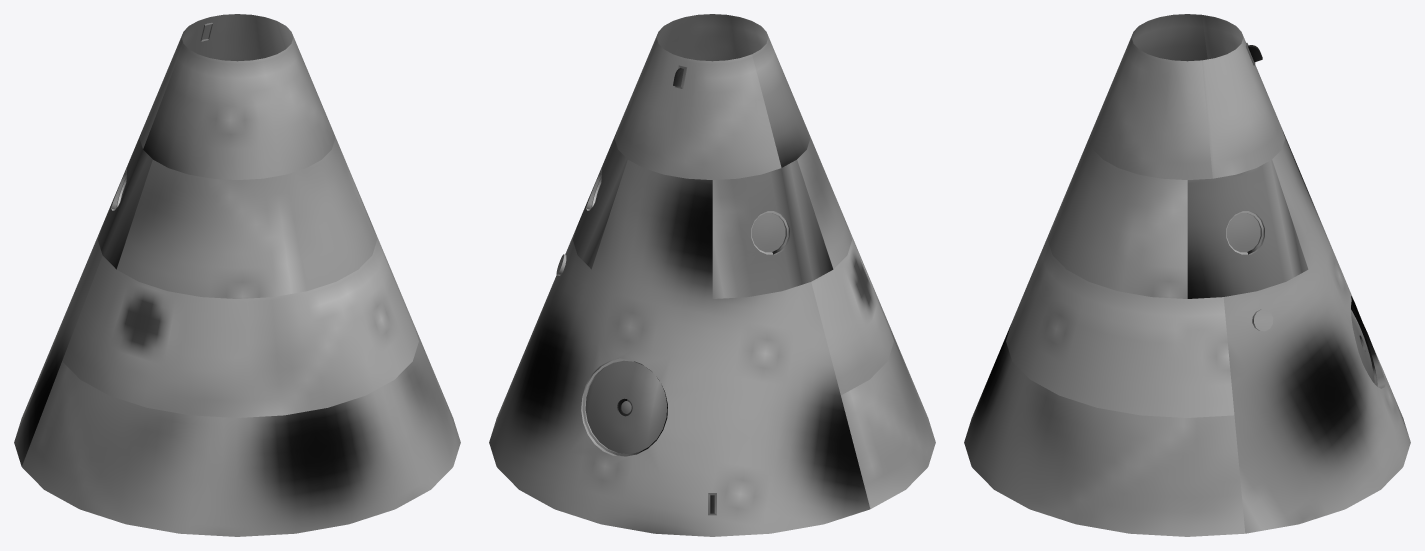
The picture shows the model from 3 angles, left to right: view 1: azimuth 30°, elevation 25°; view 2: azimuth 150°, elevation 25°; view 3: azimuth 270°, elevation 25°; orthographic projection.
Parts seen in each view (by area): view 1: mesh; view 2: mesh, windows; view 3: mesh, windows.
Part boxes in pixels (<box>): mesh: <box>14,14,460,536</box>; mesh: <box>489,14,935,536</box>; windows: <box>595,184,785,252</box>; mesh: <box>964,14,1410,536</box>; windows: <box>1227,213,1260,252</box>.
Size of what is drawn, in the model's own units: 2.5 by 2.5 by 2.5.
